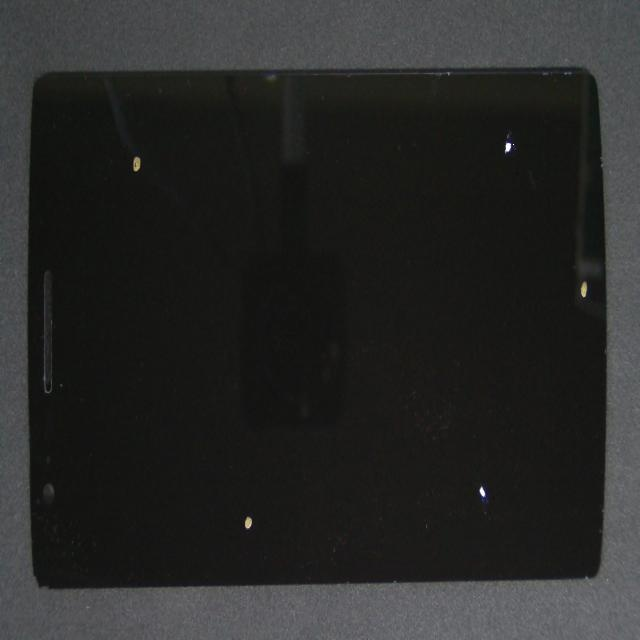stain: (261, 225, 640, 640), (289, 182, 640, 547), (132, 215, 368, 640), (239, 51, 640, 224), (53, 66, 191, 283)
